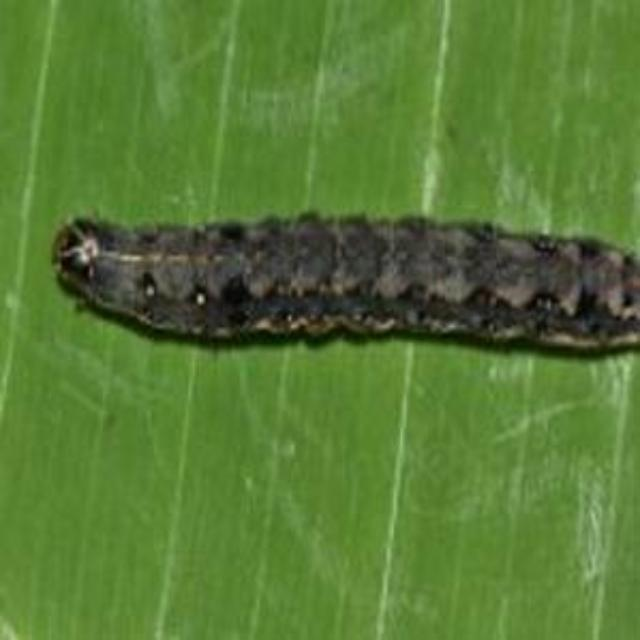Tobacco cutworm: (26, 145, 640, 431)
